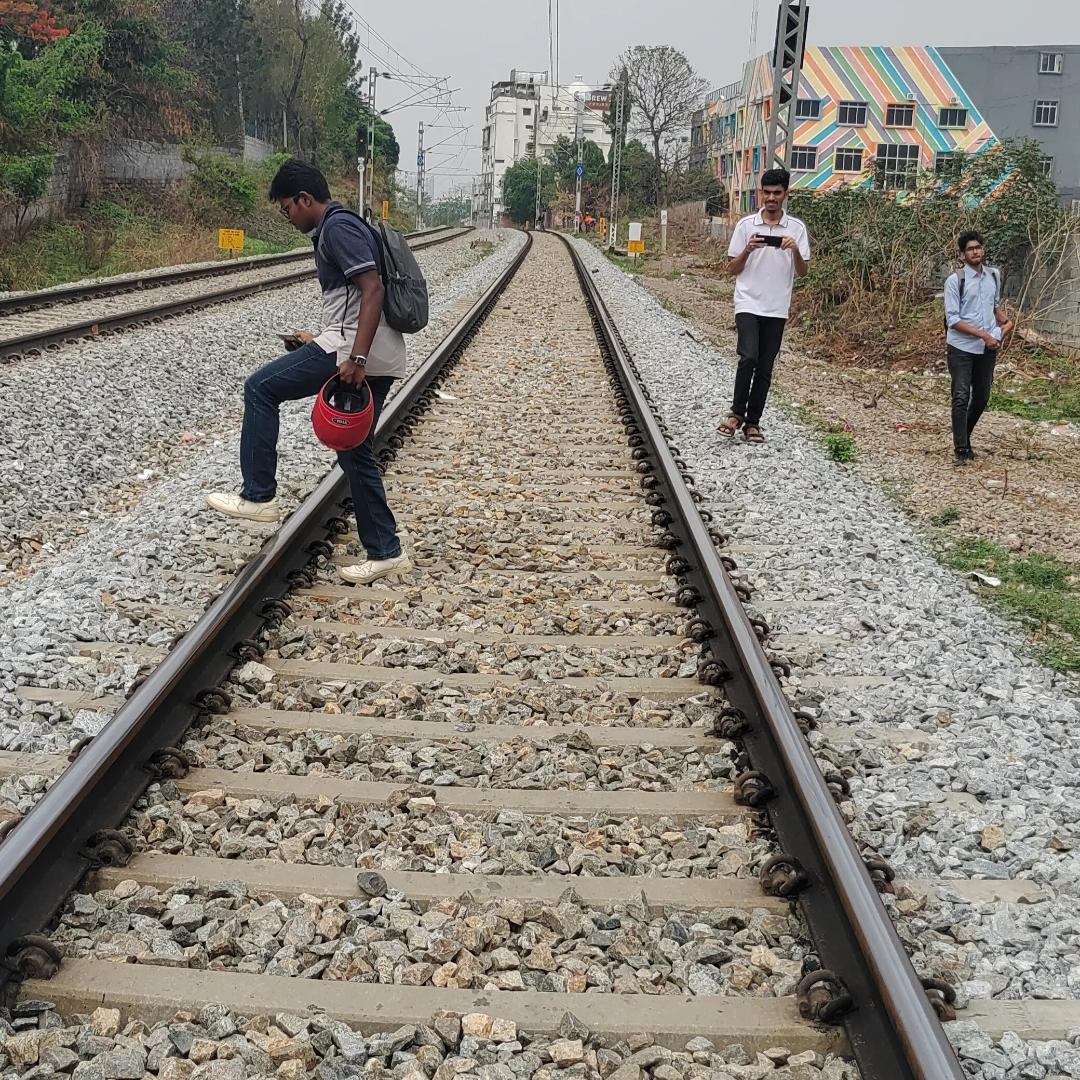standing: (196, 141, 440, 596), (706, 160, 812, 456), (928, 227, 1020, 471)
track: (0, 225, 1080, 1080)
